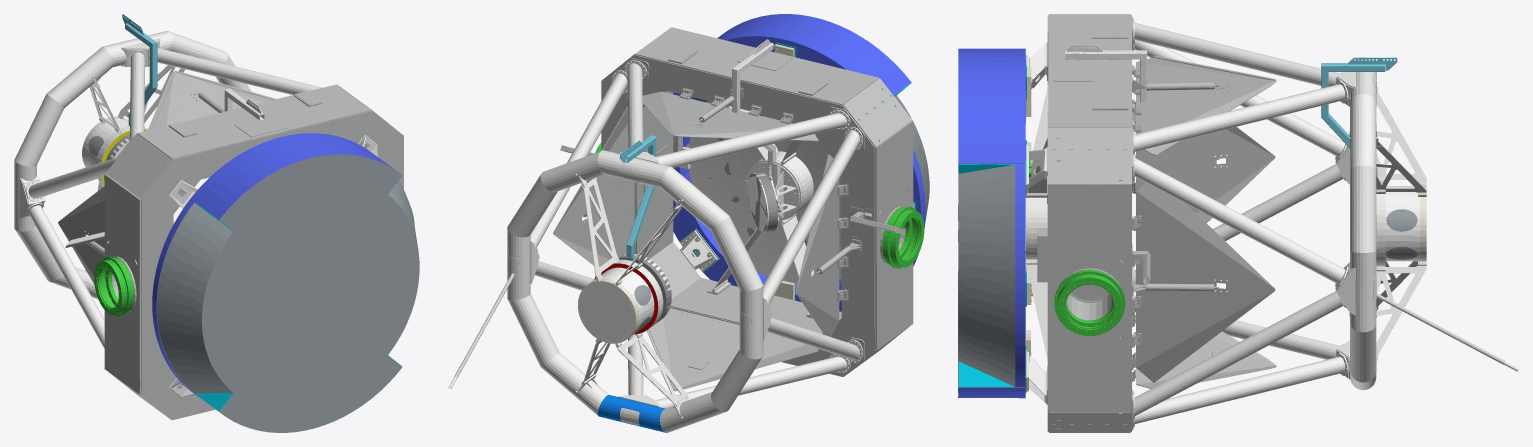
Rendered from telescope.glb.
The picture shows the model from 3 angles, left to right: view 1: azimuth 30°, elevation 25°; view 2: azimuth 150°, elevation 25°; view 3: azimuth 270°, elevation 25°; orthographic projection. The views are drawn at different scales.
Visible parts, largest first — view 1: telescope; view 2: telescope; view 3: telescope.
Boxes of the visible parts, x1,y1,x2,y2 form: telescope: (14,14,419,432); telescope: (448,14,929,432); telescope: (958,14,1518,432).
Size of the model in its own units: 37 by 31.03 by 46.63.
Materials: 1 (1 with a texture image).
